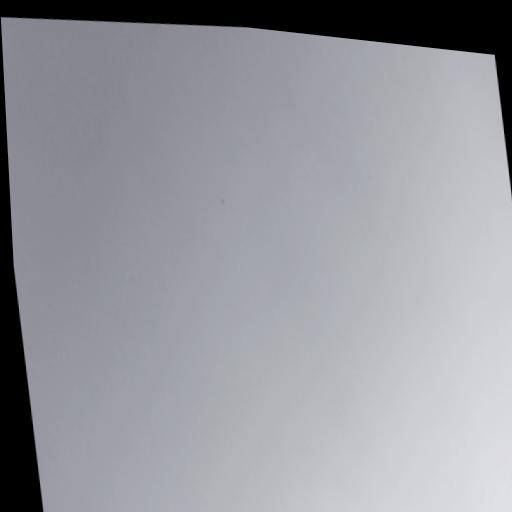drones: (220, 198, 225, 206)
